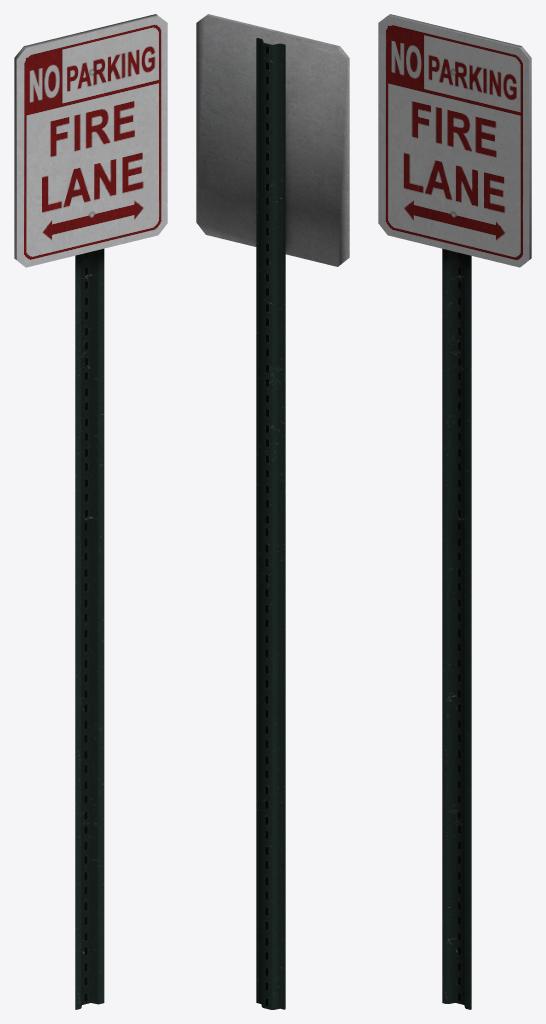
File: signinfosmall.fbx
3 renders of one model, left to right at view 1: azimuth 30°, elevation 25°; view 2: azimuth 150°, elevation 25°; view 3: azimuth 330°, elevation 25°, orthographic.
Parts seen in each view (by area): view 1: signinfosmall; view 2: signinfosmall; view 3: signinfosmall.
Boxes of the visible parts, x1,y1,x2,y2 form: signinfosmall: (14,14,167,1009); signinfosmall: (196,14,349,1009); signinfosmall: (378,14,531,1009).
Size of the model in its own units: 0.401 by 2.48 by 0.031.
